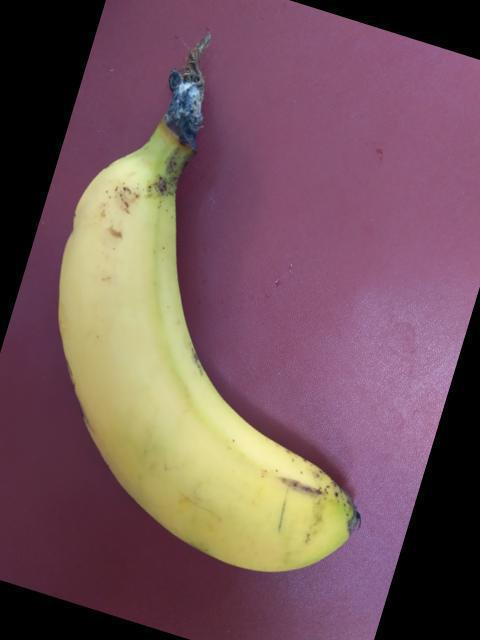freshripe: (42, 154, 374, 596)
